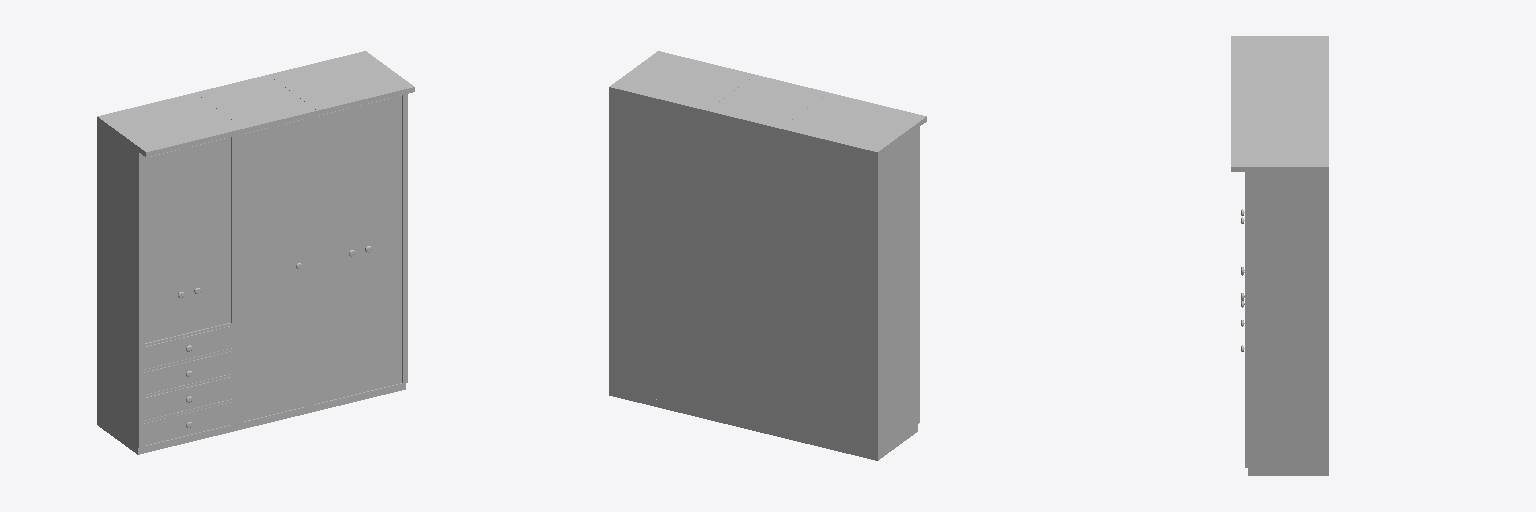
File: armadio.obj
3 views of the same model, side by side, from view 1: azimuth 30°, elevation 25°; view 2: azimuth 150°, elevation 25°; view 3: azimuth 270°, elevation 25° (orthographic).
Parts seen in each view (by area): view 1: Box060, Box04, Box061, Box130, Box06, Box13, Box01, Box011, Box010, Box17, Box18, Box19 (+8 smaller); view 2: Box02, Box021, Box020, Box04, Box01, Box011, Box010, Box041, Box05, Box040, Box051, Box031 (+2 smaller); view 3: Box031, Box011, Box01, Box010, Box051.
Part boxes in pixels (left/top/right/bottom): Box060: left=242, top=119, right=304, bottom=421; Box04: left=97, top=121, right=143, bottom=447; Box061: left=315, top=106, right=358, bottom=403; Box130: left=359, top=95, right=401, bottom=392; Box06: left=144, top=148, right=187, bottom=343; Box13: left=188, top=137, right=230, bottom=332; Box01: left=97, top=93, right=243, bottom=157; Box011: left=269, top=51, right=414, bottom=115; Box010: left=195, top=75, right=316, bottom=133; Box17: left=144, top=351, right=231, bottom=394; Box18: left=144, top=377, right=231, bottom=420; Box19: left=144, top=402, right=231, bottom=445; Box02: left=781, top=128, right=875, bottom=452; Box021: left=610, top=86, right=704, bottom=410; Box020: left=708, top=110, right=778, bottom=428; Box04: left=873, top=127, right=919, bottom=452; Box01: left=780, top=93, right=926, bottom=157; Box011: left=609, top=51, right=754, bottom=115; Box010: left=707, top=75, right=828, bottom=133; Box041: left=702, top=114, right=706, bottom=411; Box05: left=780, top=424, right=917, bottom=460; Box040: left=775, top=133, right=779, bottom=429; Box051: left=609, top=388, right=706, bottom=418; Box031: left=609, top=92, right=613, bottom=387; Box031: left=1245, top=171, right=1328, bottom=467; Box011: left=1231, top=120, right=1328, bottom=171; Box01: left=1231, top=36, right=1328, bottom=83; Box010: left=1231, top=84, right=1328, bottom=119; Box051: left=1248, top=468, right=1328, bottom=475.
Bounding box in the file's own units: 220 × 242 × 70.